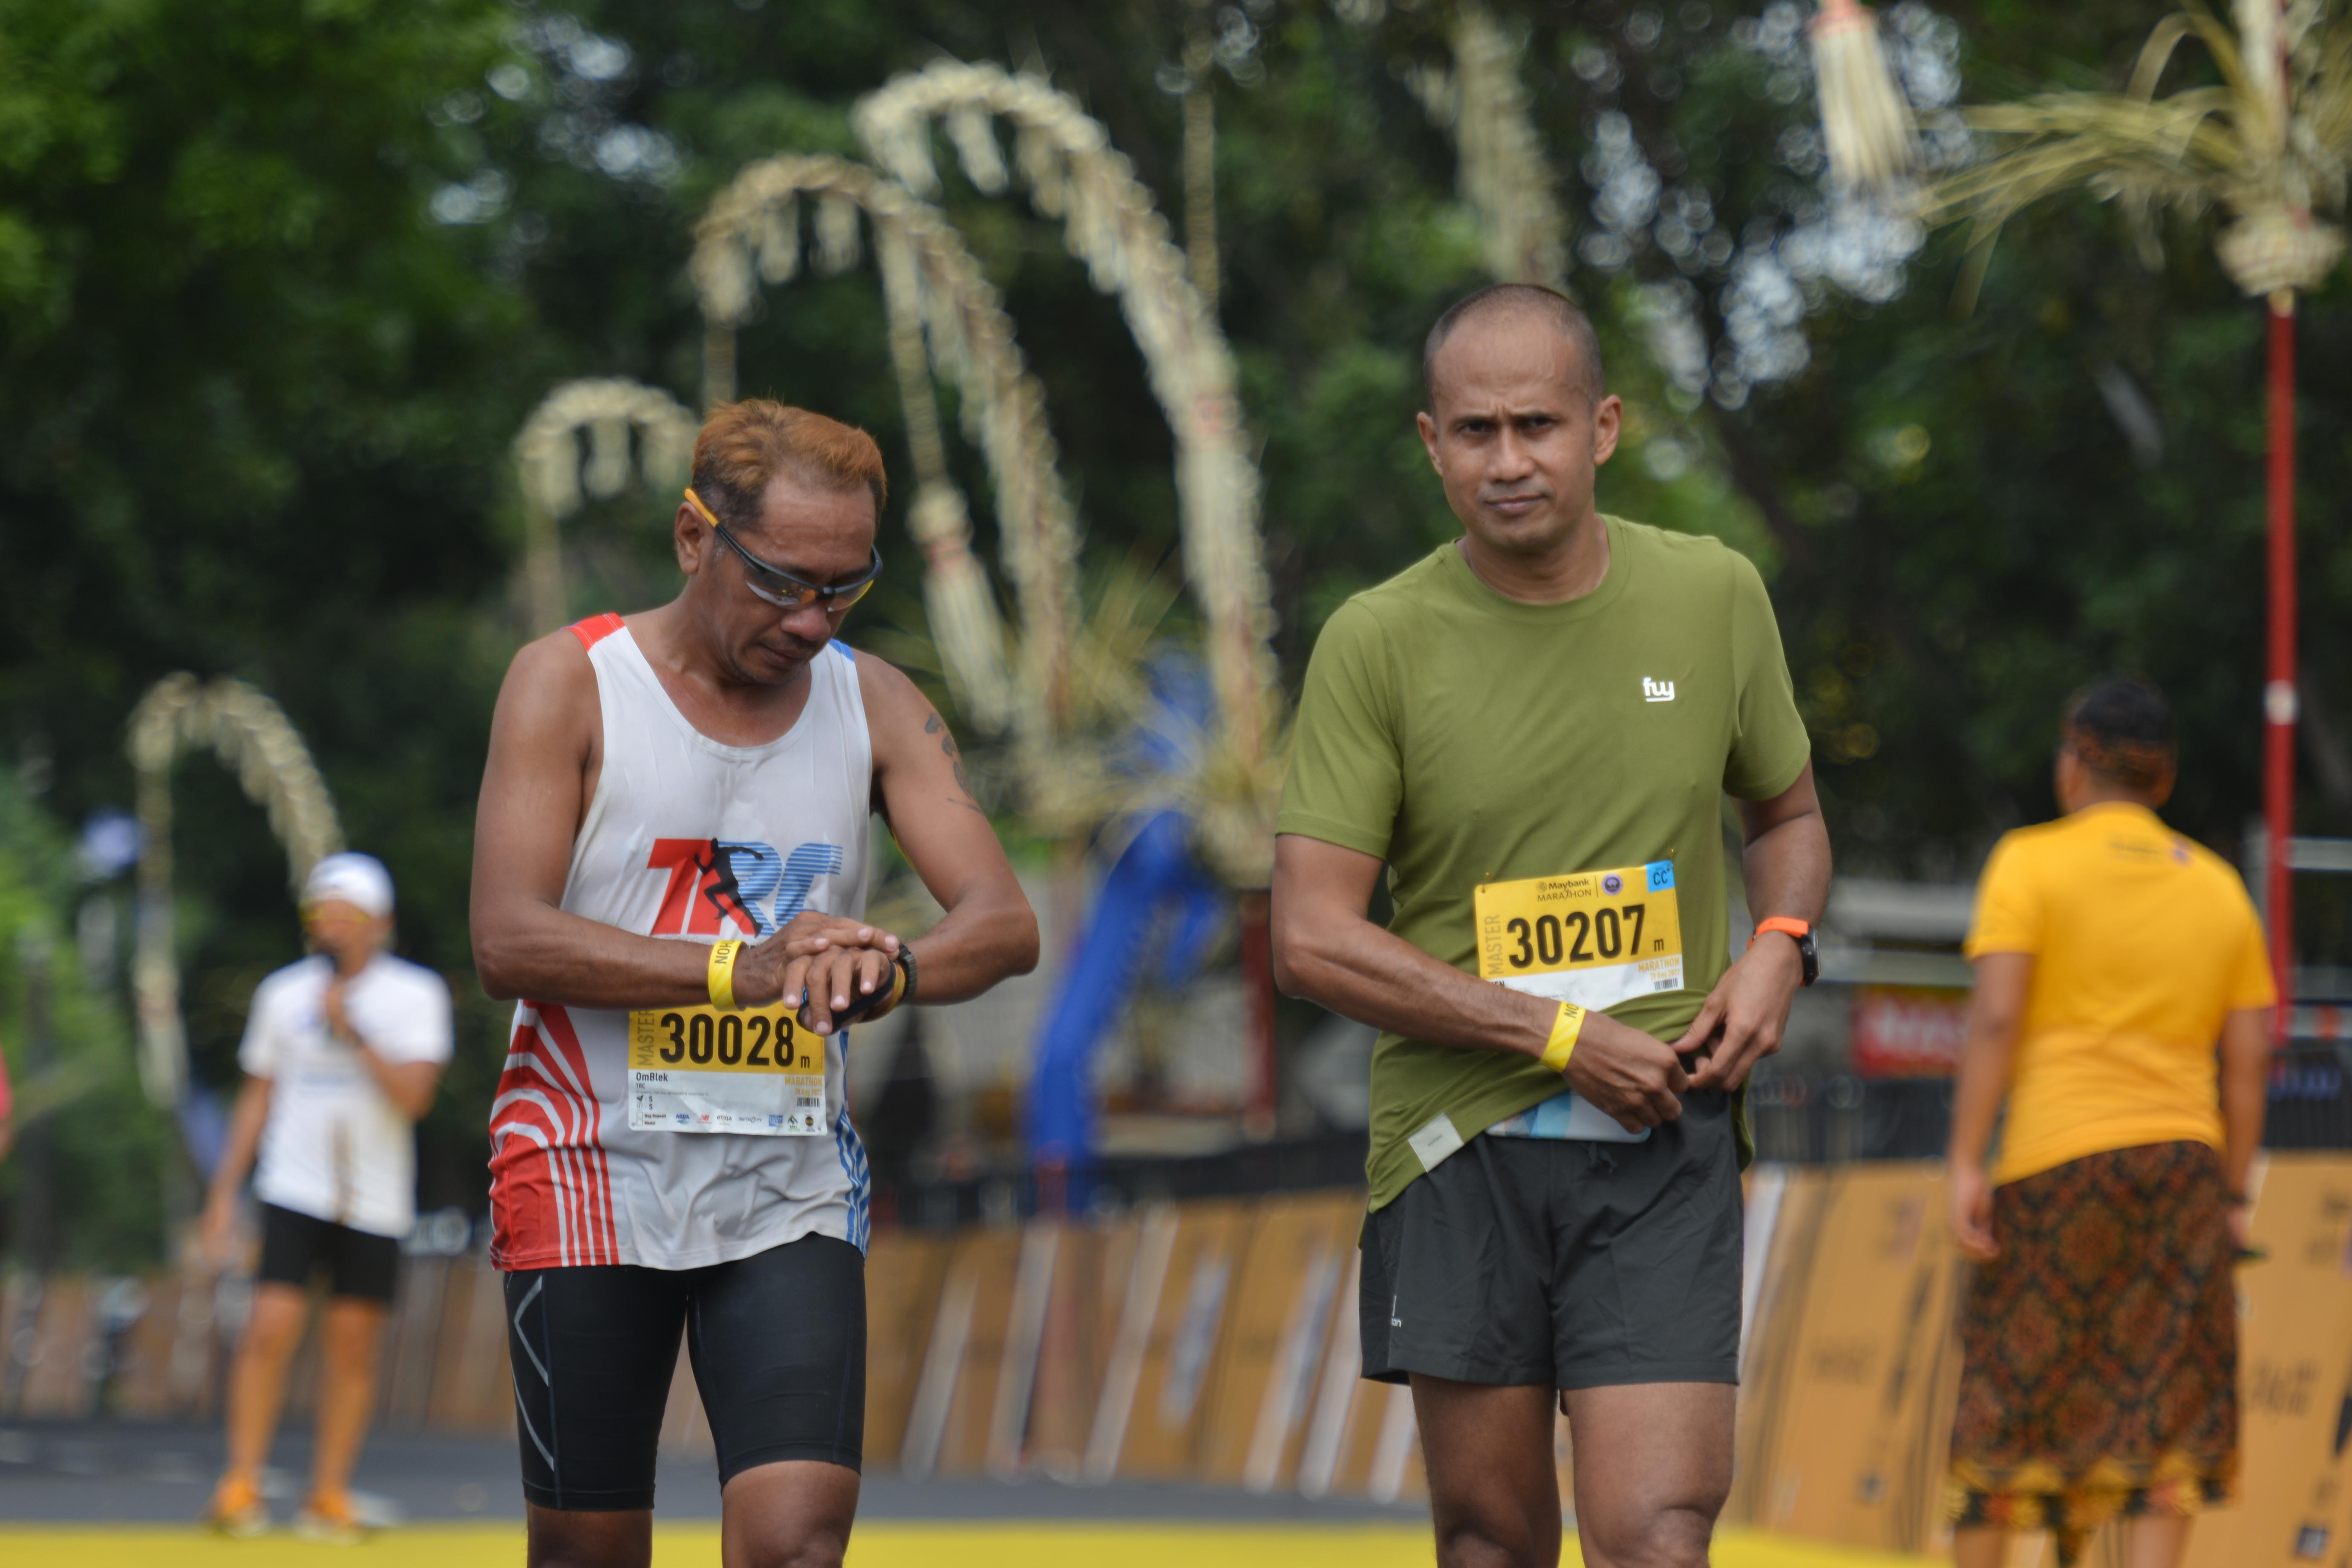bib: (628, 996, 828, 1136), (1479, 871, 1683, 997)
